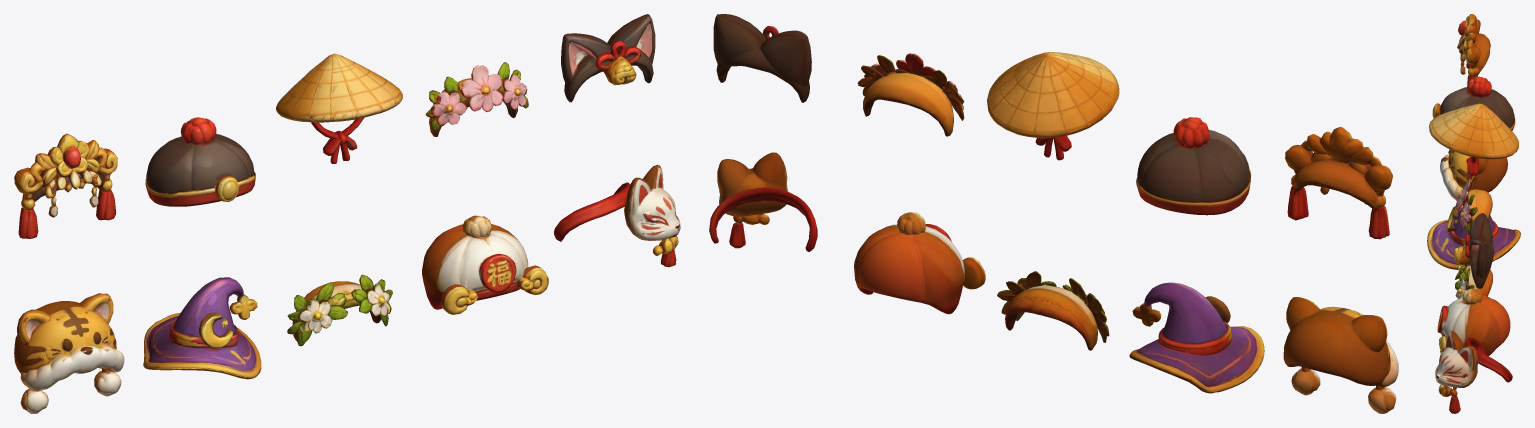
File: hats-lite.glb
3 renders of one model, left to right at view 1: azimuth 30°, elevation 25°; view 2: azimuth 150°, elevation 25°; view 3: azimuth 270°, elevation 25°, orthographic. The views are drawn at different scales.
Parts seen in each view (by area): view 1: hat_tiger, hat_fu, hat_witch, hat_guanmao, hat_douli, hat_crown, hat_catbell, hat_fox, hat_jasmine, hat_peach; view 2: hat_douli, hat_witch, hat_tiger, hat_fu, hat_guanmao, hat_crown, hat_fox, hat_catbell, hat_peach, hat_jasmine; view 3: hat_douli, hat_fu, hat_fox, hat_witch, hat_tiger, hat_guanmao, hat_catbell, hat_crown, hat_peach, hat_jasmine.
Boxes of the visible parts, x1,y1,x2,y2 form: hat_tiger: (14,293,124,413); hat_fu: (422,215,548,314); hat_witch: (143,277,261,379); hat_guanmao: (145,117,255,206); hat_douli: (276,53,402,163); hat_crown: (14,133,117,238); hat_catbell: (561,14,655,102); hat_fox: (554,164,680,267); hat_jasmine: (287,274,392,346); hat_peach: (425,62,528,136); hat_douli: (987,52,1119,160); hat_witch: (1129,282,1264,393); hat_tiger: (1283,297,1398,413); hat_fu: (854,212,985,314); hat_guanmao: (1136,117,1251,215); hat_crown: (1285,127,1392,239); hat_fox: (709,152,817,251); hat_catbell: (713,14,811,102); hat_peach: (857,53,964,136); hat_jasmine: (997,271,1109,350); hat_douli: (1429,103,1518,181); hat_fu: (1437,288,1510,356); hat_fox: (1435,331,1512,413); hat_witch: (1427,206,1520,269); hat_tiger: (1440,149,1507,211); hat_guanmao: (1432,76,1515,130); hat_catbell: (1453,213,1494,288); hat_crown: (1457,14,1490,86); hat_peach: (1455,175,1492,234); hat_jasmine: (1455,264,1492,298).
Bounding box in the file's own units: 1.19 × 0.4825 × 0.2066.
1 material, 1 textured.
